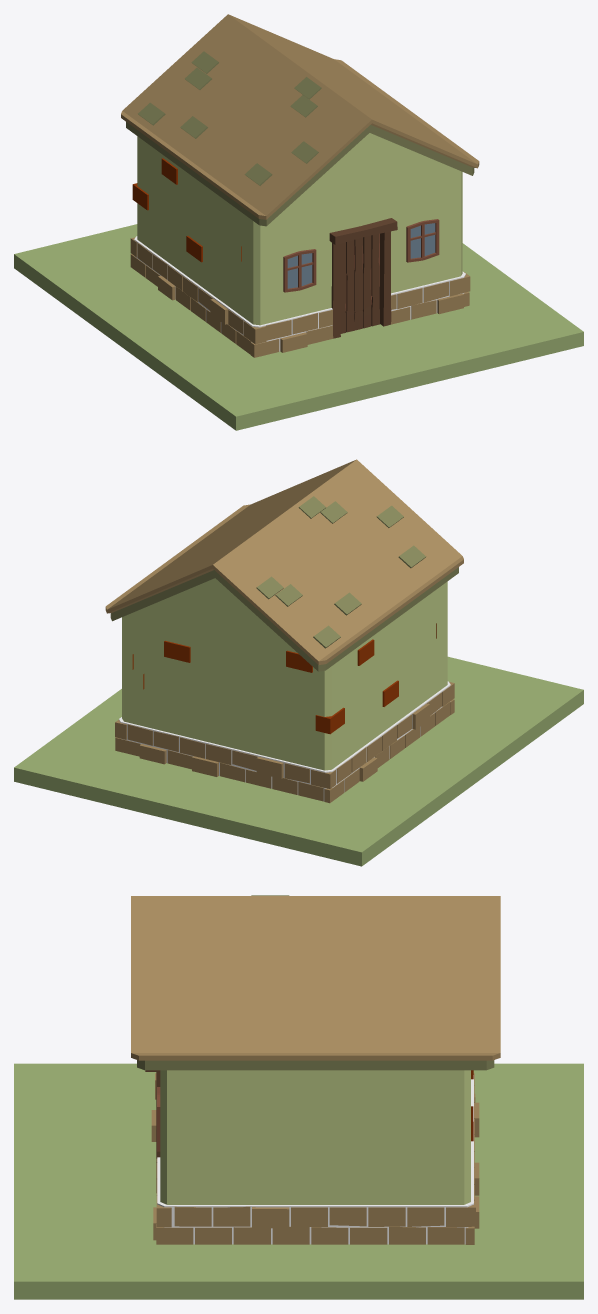
File: enkucuk 1.fbx
3 renders of one model, top to bottom at view 1: azimuth 30°, elevation 25°; view 2: azimuth 150°, elevation 25°; view 3: azimuth 270°, elevation 25°, orthographic. The views are drawn at different scales.
Visible parts, largest first — view 1: 1Story_GableRoof_Mat, Cube; view 2: 1Story_GableRoof_Mat, Cube; view 3: 1Story_GableRoof_Mat, Cube.
Part boxes in pixels (<box>): 1Story_GableRoof_Mat: <box>121,14,479,357</box>; Cube: <box>14,224,583,430</box>; 1Story_GableRoof_Mat: <box>105,459,463,803</box>; Cube: <box>14,656,583,866</box>; 1Story_GableRoof_Mat: <box>131,895,500,1244</box>; Cube: <box>14,1063,583,1299</box>.
Bounding box in the file's own units: 332 × 213 × 367.
